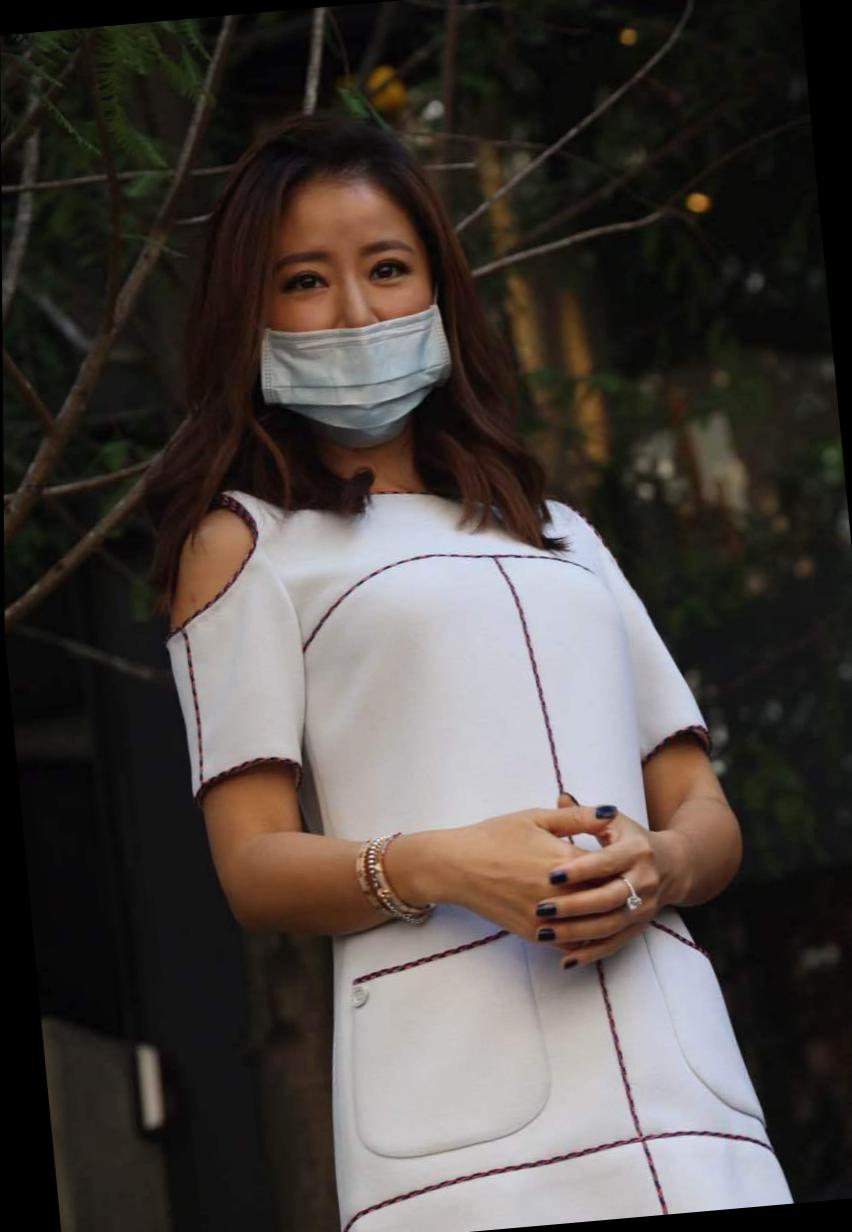WRONG: (250, 199, 454, 446)
